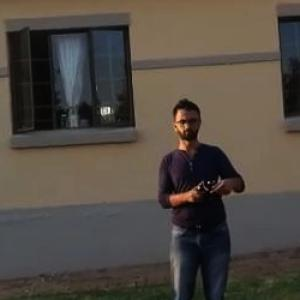follow: (155, 89, 253, 299)
